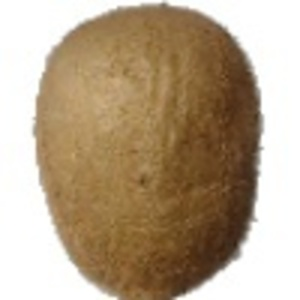kiwi: (32, 2, 263, 300)
